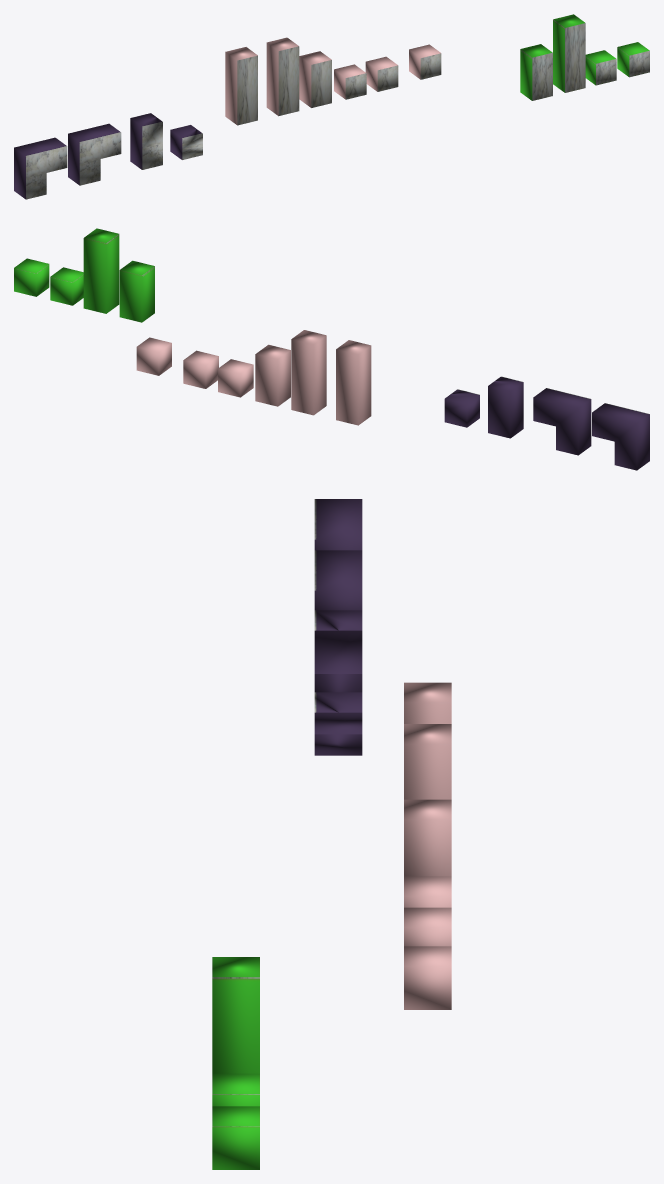
The model's file is cubos.fbx.
The picture shows the model from 3 angles, top to bottom: view 1: azimuth 30°, elevation 25°; view 2: azimuth 150°, elevation 25°; view 3: azimuth 270°, elevation 25°; orthographic projection. The views are drawn at different scales.
Visible parts, largest first — view 1: rosa6_001, verde1_001, rosa6, morado4_001, morado4, rosa6_002, morado4_002, verde1, rosa6_004, rosa6_003, verde1_003, morado4_003 (+2 smaller); view 2: verde1_001, rosa6_001, rosa6, morado4_001, morado4, rosa6_002, morado4_002, verde1, verde1_003, rosa6_005, rosa6_003, morado4_003 (+2 smaller); view 3: verde1_001, morado4_002, rosa6_002, rosa6_001, morado4_003, verde1_003, rosa6_005, morado4_001, morado4, rosa6, rosa6_004, verde1_002 (+1 smaller).
Part boxes in pixels (bbox=[...]): rosa6_001: bbox=[266, 37, 299, 116]; verde1_001: bbox=[553, 14, 585, 92]; rosa6: bbox=[225, 47, 257, 125]; morado4_001: bbox=[68, 123, 121, 185]; morado4: bbox=[14, 137, 67, 199]; rosa6_002: bbox=[299, 51, 331, 107]; morado4_002: bbox=[130, 113, 162, 169]; verde1: bbox=[520, 44, 552, 100]; rosa6_004: bbox=[365, 56, 398, 91]; rosa6_003: bbox=[334, 64, 366, 99]; verde1_003: bbox=[617, 42, 649, 77]; morado4_003: bbox=[170, 125, 202, 159]; verde1_001: bbox=[83, 228, 119, 313]; rosa6_001: bbox=[291, 330, 326, 415]; rosa6: bbox=[336, 340, 371, 425]; morado4_001: bbox=[533, 388, 591, 455]; morado4: bbox=[592, 403, 649, 470]; rosa6_002: bbox=[255, 344, 290, 406]; morado4_002: bbox=[488, 376, 523, 438]; verde1: bbox=[119, 260, 154, 322]; verde1_003: bbox=[14, 258, 49, 296]; rosa6_005: bbox=[136, 337, 171, 375]; rosa6_003: bbox=[218, 359, 253, 397]; morado4_003: bbox=[444, 389, 479, 427]; verde1_001: bbox=[212, 957, 259, 1073]; morado4_002: bbox=[314, 610, 362, 692]; rosa6_002: bbox=[404, 799, 451, 876]; rosa6_001: bbox=[404, 724, 451, 799]; morado4_003: bbox=[314, 692, 362, 755]; verde1_003: bbox=[212, 1106, 259, 1169]; rosa6_005: bbox=[404, 946, 451, 1009]; morado4_001: bbox=[314, 550, 362, 610]; morado4: bbox=[314, 499, 362, 550]; rosa6: bbox=[404, 682, 451, 723]; rosa6_004: bbox=[404, 907, 451, 946]; verde1_002: bbox=[212, 1073, 259, 1106].
Size of the model in its own units: 28.92 by 3.03 by 5.01.
